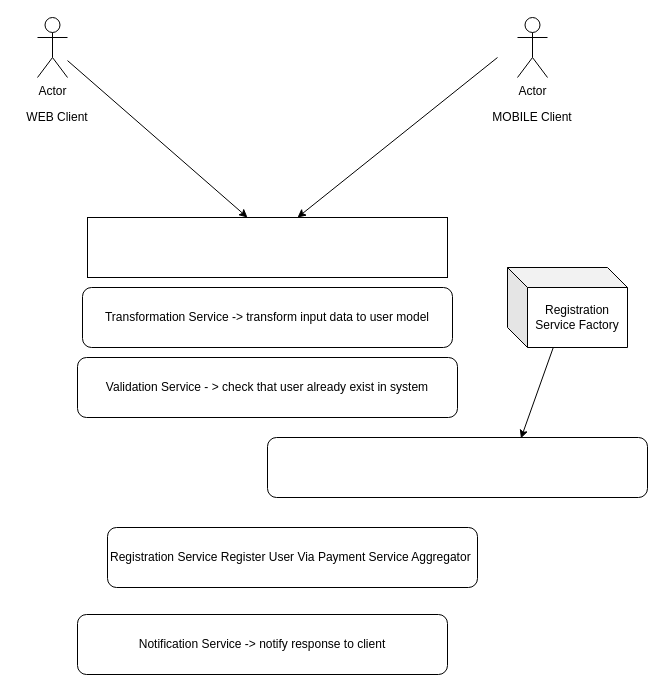
Image size: 665x692. Some labels were removed from this diagram. The centre of each missing label's shape, as x and y in pixels:
"Provide Corresponding Registration Service" goes at (x=457, y=467).
"Registration Service Rest Controller" goes at (x=267, y=247).
